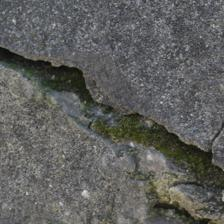Crack: (4, 23, 217, 172)
